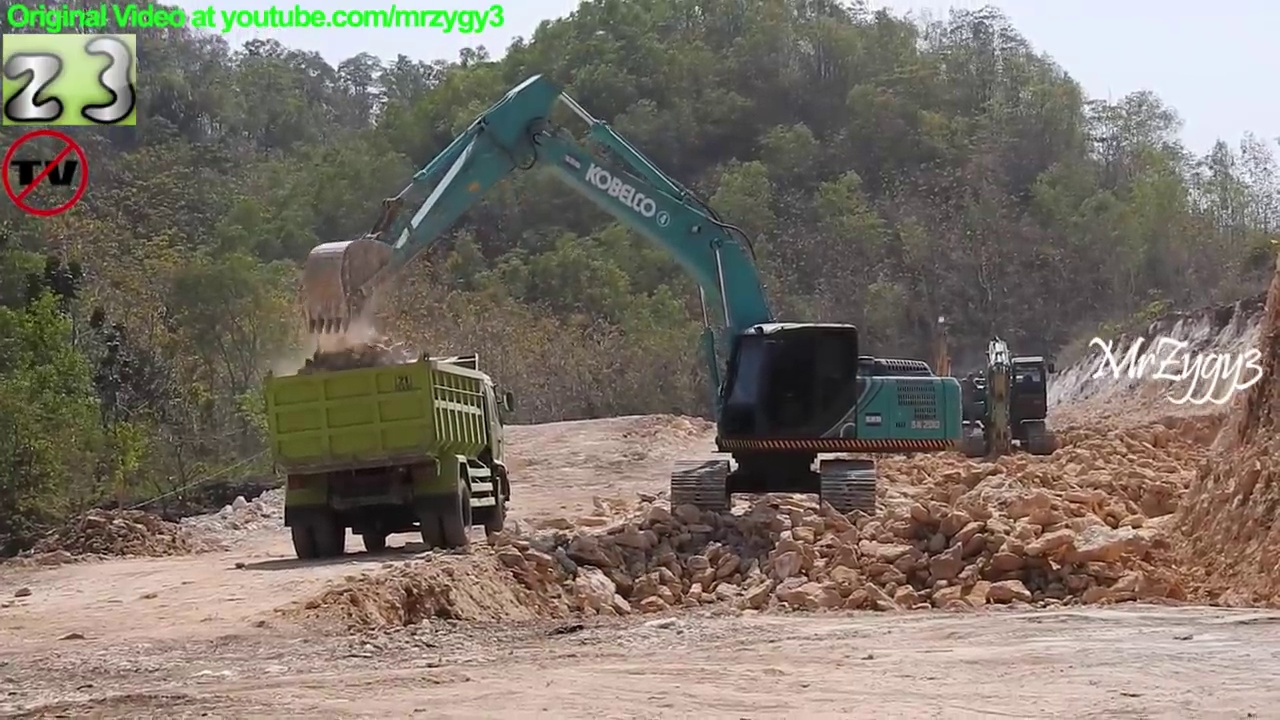excavator: (298, 68, 971, 528), (943, 328, 1067, 467)
excavator breaker: (895, 309, 985, 455)
truck: (254, 344, 522, 565)
